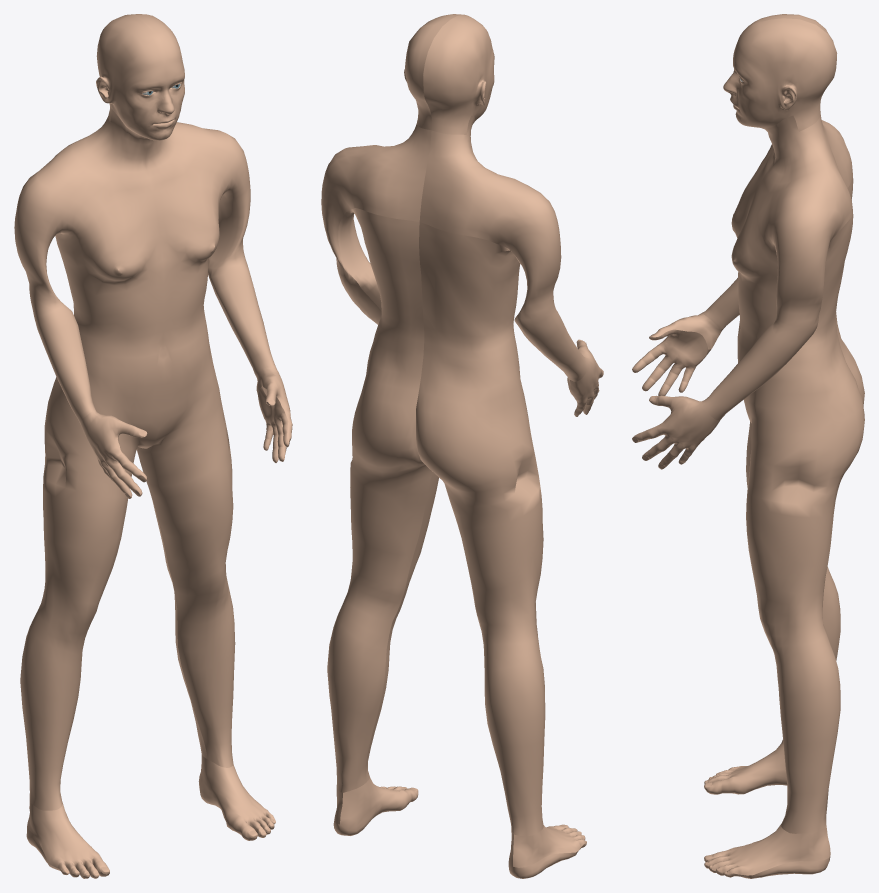
The model's file is body-erwachsener-divers-real-v3.glb.
3 renders of one model, left to right at view 1: azimuth 30°, elevation 25°; view 2: azimuth 150°, elevation 25°; view 3: azimuth 270°, elevation 25°, orthographic.
Visible parts, largest first — view 1: real-human-body; view 2: real-human-body; view 3: real-human-body.
Boxes of the visible parts, bbox=[...] form: real-human-body: bbox=[14, 14, 292, 878]; real-human-body: bbox=[321, 14, 603, 878]; real-human-body: bbox=[632, 14, 864, 878].
Size of the model in its own units: 0.5049 by 1.72 by 0.4475.
